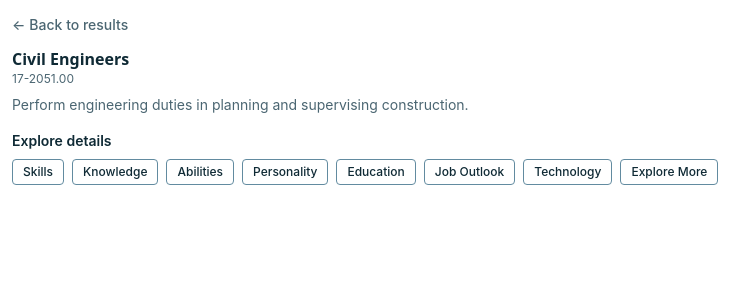
CareerDetailView › falls back to a plain key/value rendering for an unrecognized section shape
Expected: the heading "Civil Engineers" is shown, [12,48,129,70]
Click the button "Technology" at (568, 172), box [523,159,612,185]
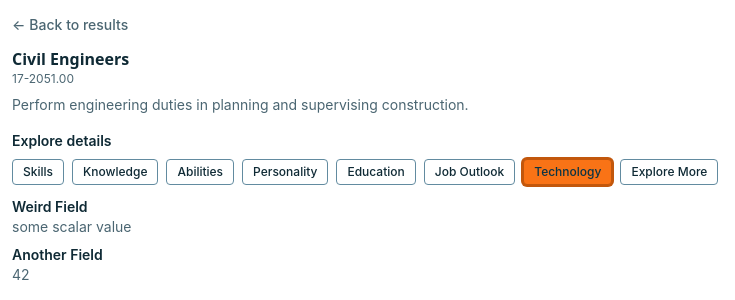
Expected: the text "Weird Field" is shown, [12,198,88,215]
Expected: the text "some scalar value" is shown, [12,218,132,235]
Expected: the text "Another Field" is shown, [12,246,103,263]
